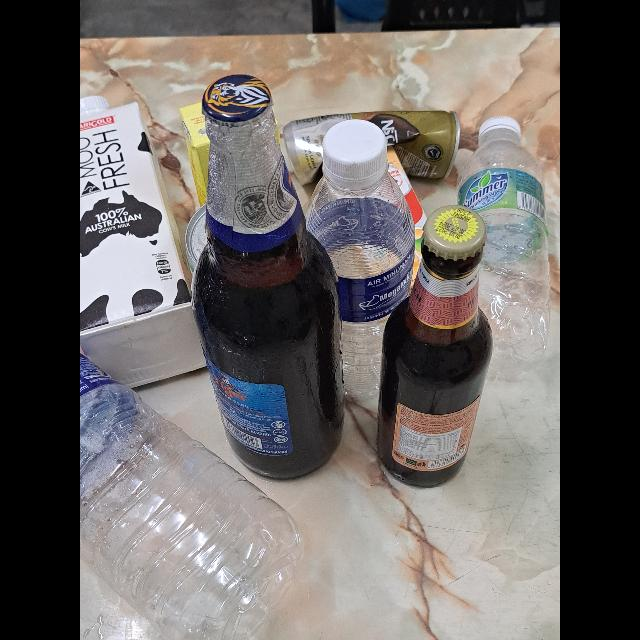caixinha: (81, 105, 213, 382), (178, 99, 262, 203)
garrafa de vidro: (184, 111, 344, 478), (381, 203, 491, 489)
garrafa plástica: (80, 336, 302, 640), (305, 178, 409, 392), (458, 144, 554, 363)
lata: (284, 110, 462, 180)
tampa plástica: (322, 116, 381, 188), (476, 112, 522, 138), (82, 94, 108, 118)
